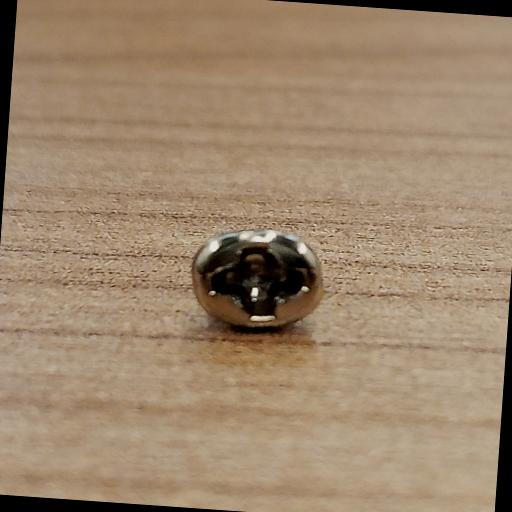Phillips: (178, 219, 336, 338)
